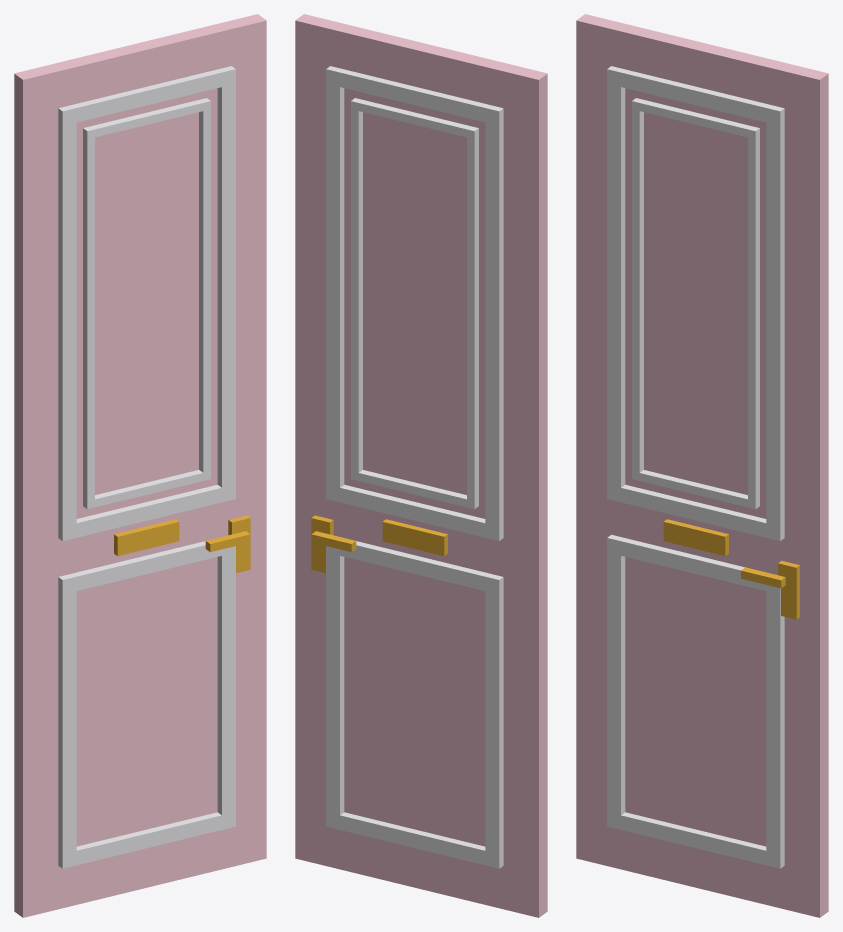
Rendered from SM_Door_girls_inner_80x260.fbx.
3 views of the same model, side by side, from view 1: azimuth 30°, elevation 25°; view 2: azimuth 150°, elevation 25°; view 3: azimuth 330°, elevation 25° (orthographic).
Visible parts, largest first — view 1: SM_Door_girls_inner_80x260; view 2: SM_Door_girls_inner_80x260; view 3: SM_Door_girls_inner_80x260.
Boxes of the visible parts, box(x1,y1,x2,y2) form: SM_Door_girls_inner_80x260: box(14, 14, 266, 917); SM_Door_girls_inner_80x260: box(295, 14, 547, 917); SM_Door_girls_inner_80x260: box(576, 14, 828, 917).
Bounding box in the file's own units: 0.788 × 2.59 × 0.175.
